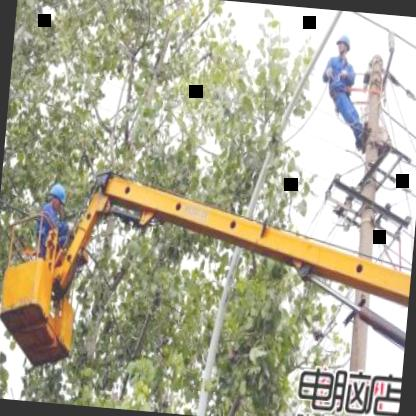helmet: (48, 180, 66, 211), (335, 30, 352, 59)
